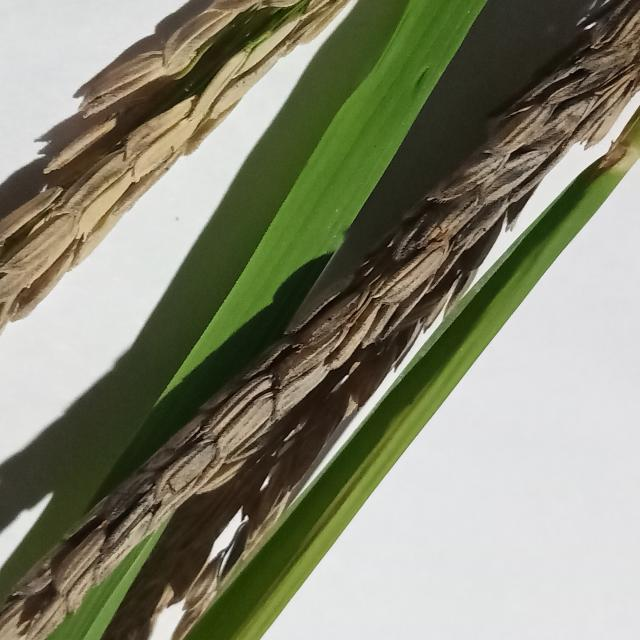Neck_Blast: (0, 4, 640, 632), (0, 0, 346, 340)
